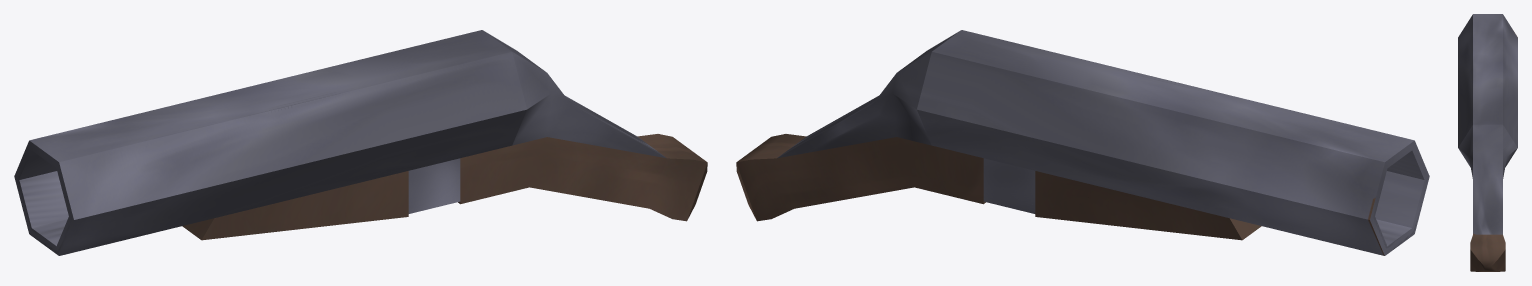
The model's file is AnotherTestGun.fbx.
3 renders of one model, left to right at view 1: azimuth 30°, elevation 25°; view 2: azimuth 150°, elevation 25°; view 3: azimuth 270°, elevation 25°, orthographic. The views are drawn at different scales.
Parts seen in each view (by area): view 1: AnotherTestGun; view 2: AnotherTestGun; view 3: AnotherTestGun.
Part boxes in pixels (left/top/right/bottom): AnotherTestGun: left=14, top=30, right=707, bottom=255; AnotherTestGun: left=736, top=30, right=1429, bottom=255; AnotherTestGun: left=1458, top=14, right=1517, bottom=271.
Bounding box in the file's own units: 81 × 24.78 × 12.8.
Materials: 1 (1 with a texture image).
